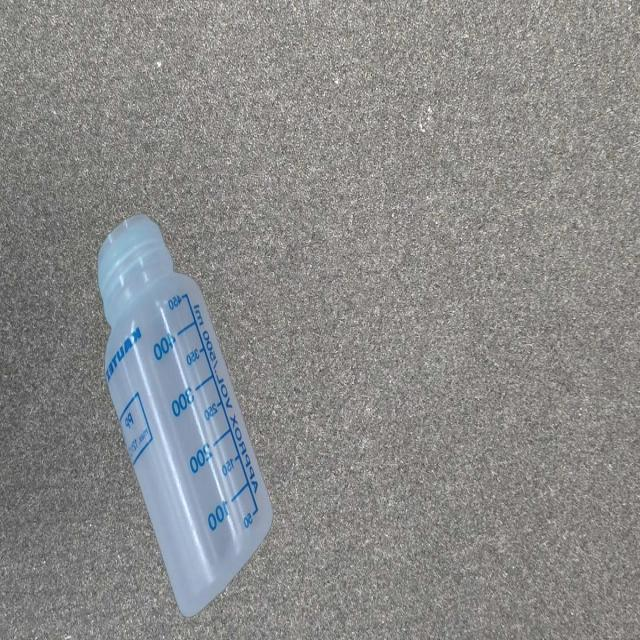bottle: (97, 212, 275, 618)
